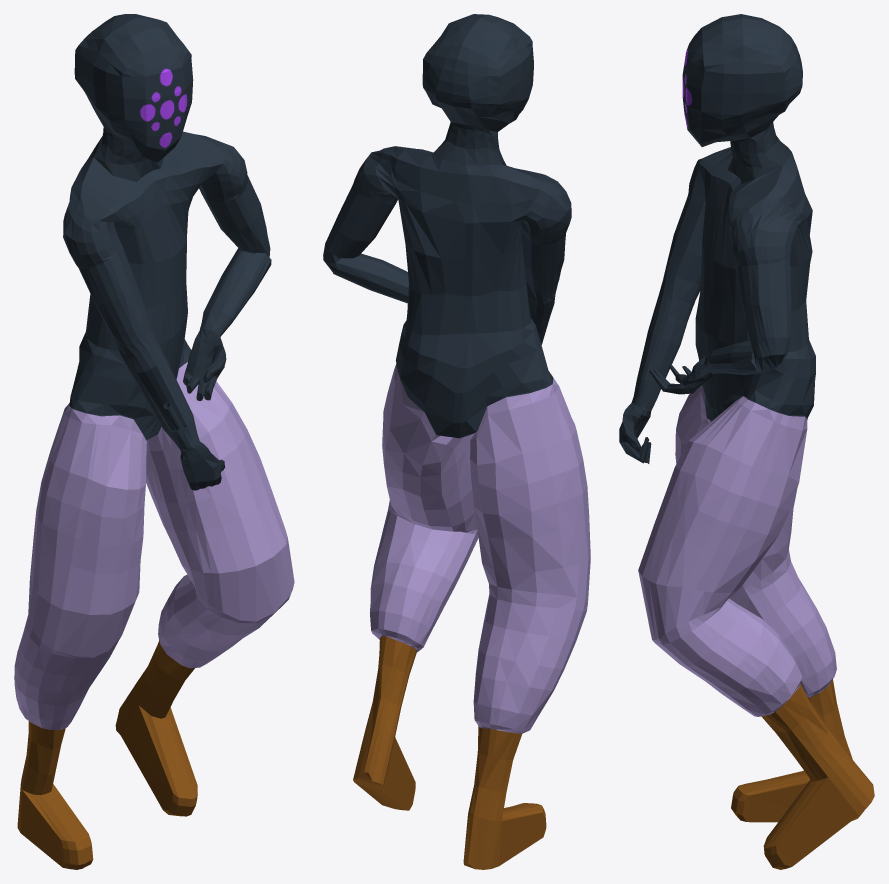
Rendered from Oracle_Run_000021.obj.
3 views of the same model, side by side, from view 1: azimuth 30°, elevation 25°; view 2: azimuth 150°, elevation 25°; view 3: azimuth 270°, elevation 25° (orthographic). The views are drawn at different scales.
Visible parts, largest first — view 1: Cube; view 2: Cube; view 3: Cube.
Part boxes in pixels (box(x1,y1,x2,y2)): Cube: box(14, 14, 294, 869); Cube: box(323, 14, 590, 869); Cube: box(619, 14, 874, 869).
Bounding box in the file's own units: 1.22 × 3.84 × 1.08.
